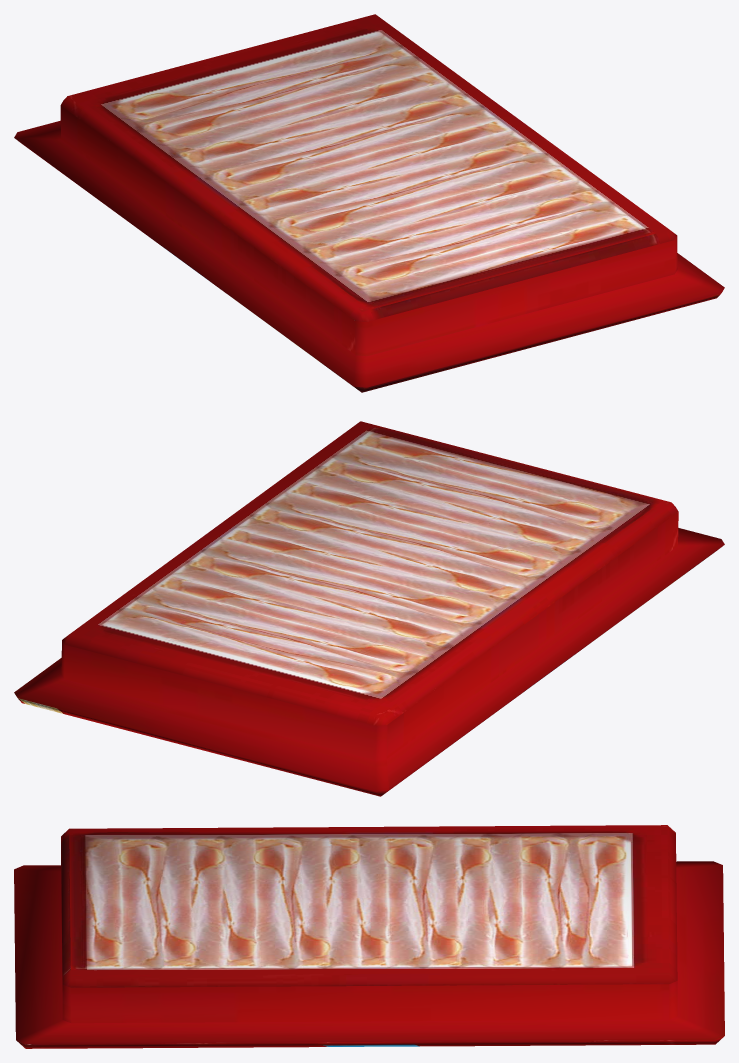
The model's file is jamon-pavo.glb.
The picture shows the model from 3 angles, top to bottom: view 1: azimuth 30°, elevation 25°; view 2: azimuth 150°, elevation 25°; view 3: azimuth 270°, elevation 25°; orthographic projection. The views are drawn at different scales.
Parts seen in each view (by area): view 1: jamon-pavo; view 2: jamon-pavo; view 3: jamon-pavo.
Boxes of the visible parts, x1,y1,x2,y2 form: jamon-pavo: [14, 14, 724, 392]; jamon-pavo: [14, 421, 724, 796]; jamon-pavo: [14, 825, 724, 1048].
Size of the model in its own units: 0.2286 by 0.0394 by 0.3666.
Materials: 1 (1 with a texture image).
